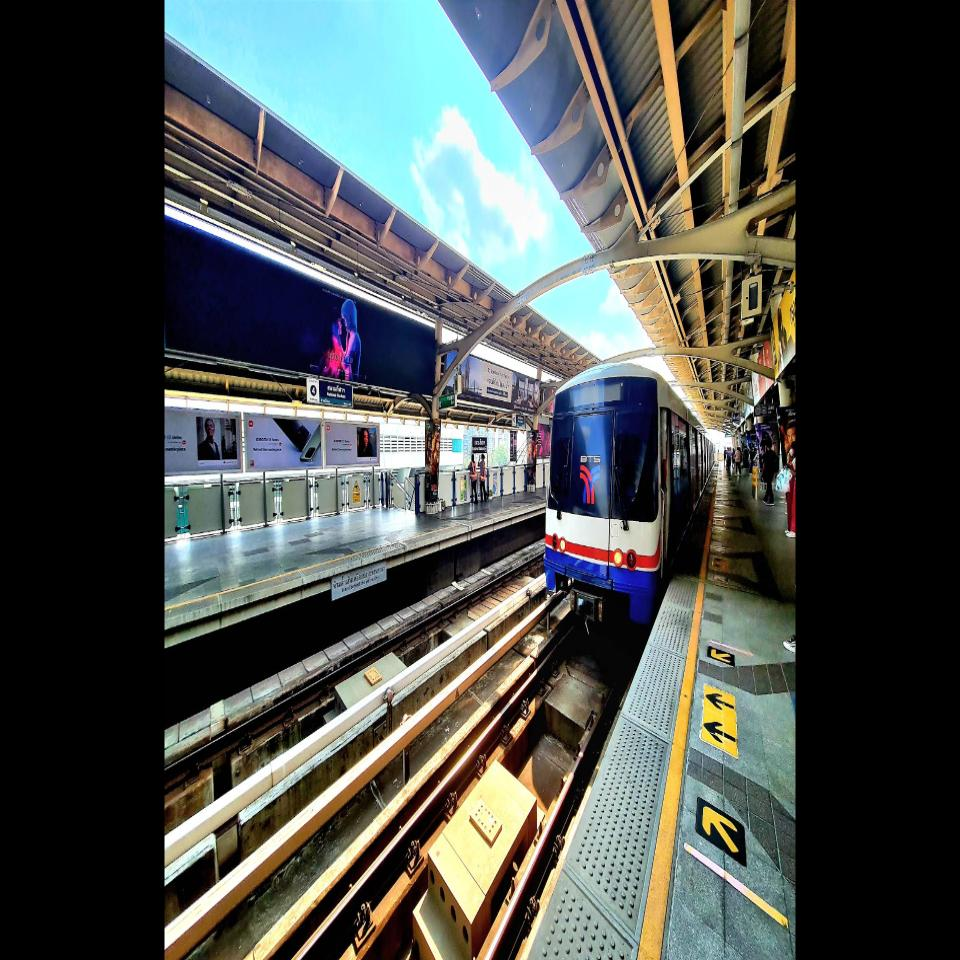National Stadium: (326, 380, 346, 407), (471, 436, 488, 454)
